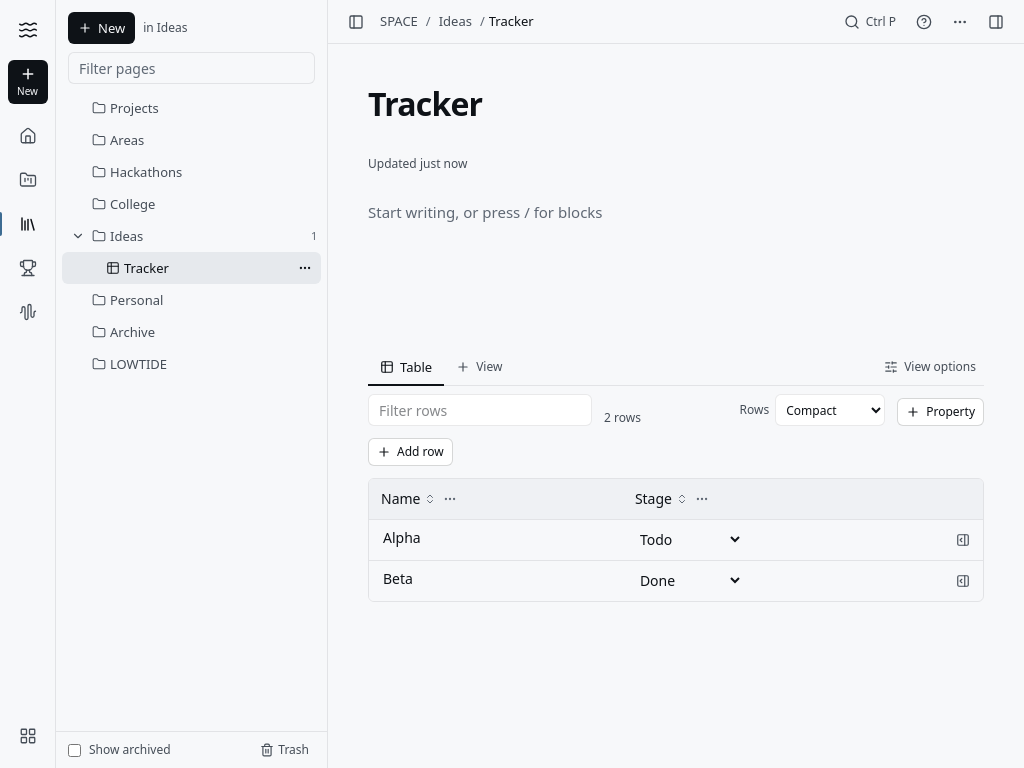
it: SPACE databases (v2.1) › saves filters and sorts in a view, without copying rows
This screenshot has width=1024, height=768.
Expected: the element named "Views" is shown, [368,350,444,385]
Click the button "View options".
click(930, 367)  # box [876,353,984,381]
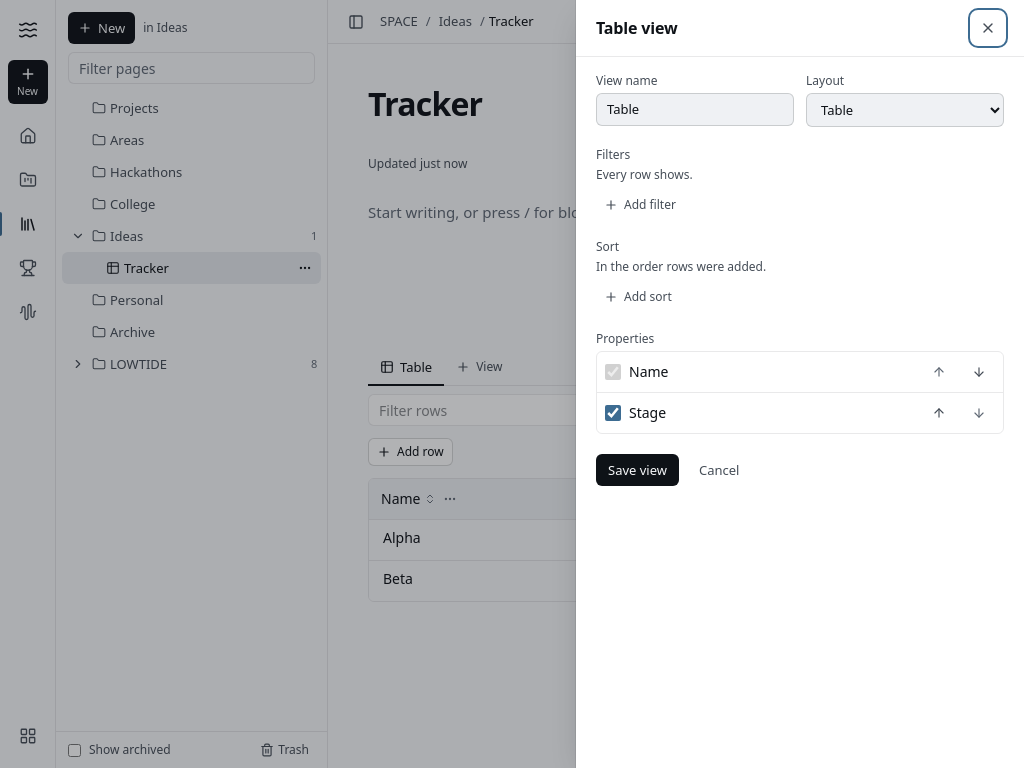
Click the button "Add filter".
click(640, 205)  # box [596,191,684,219]
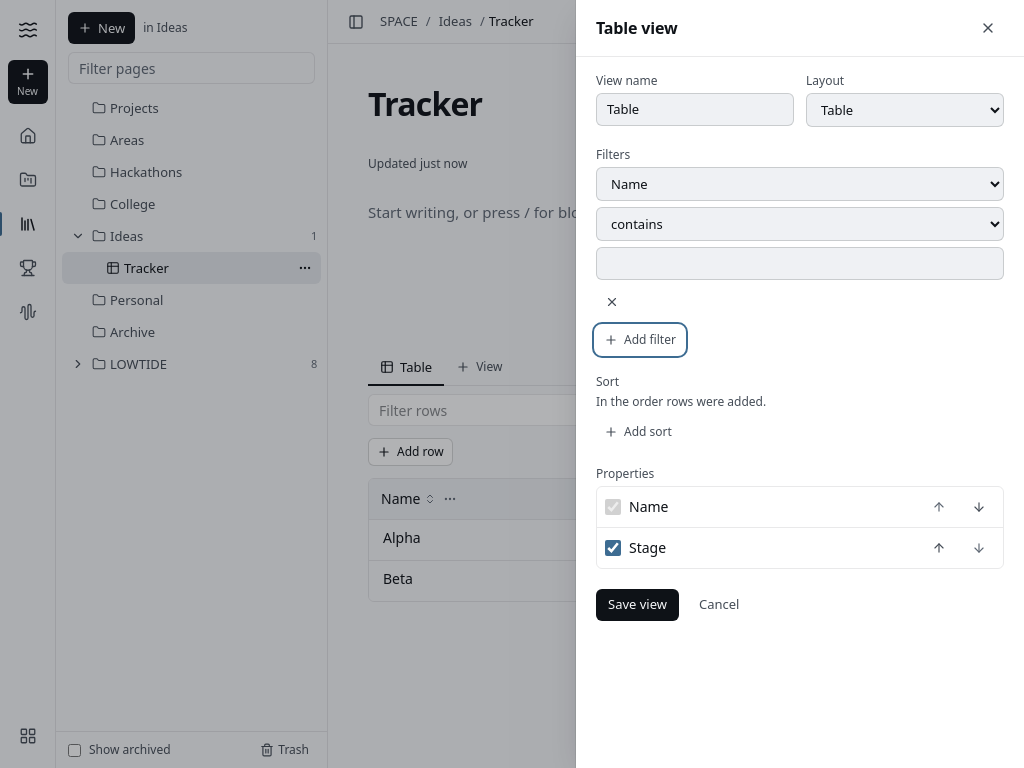
Select "Stage" in the dropdown named "Filter 1 property" at (800, 184), box [596,167,1004,201]
Select "is" in the dropdown named "Filter 1 condition" at (800, 224), box [596,207,1004,241]
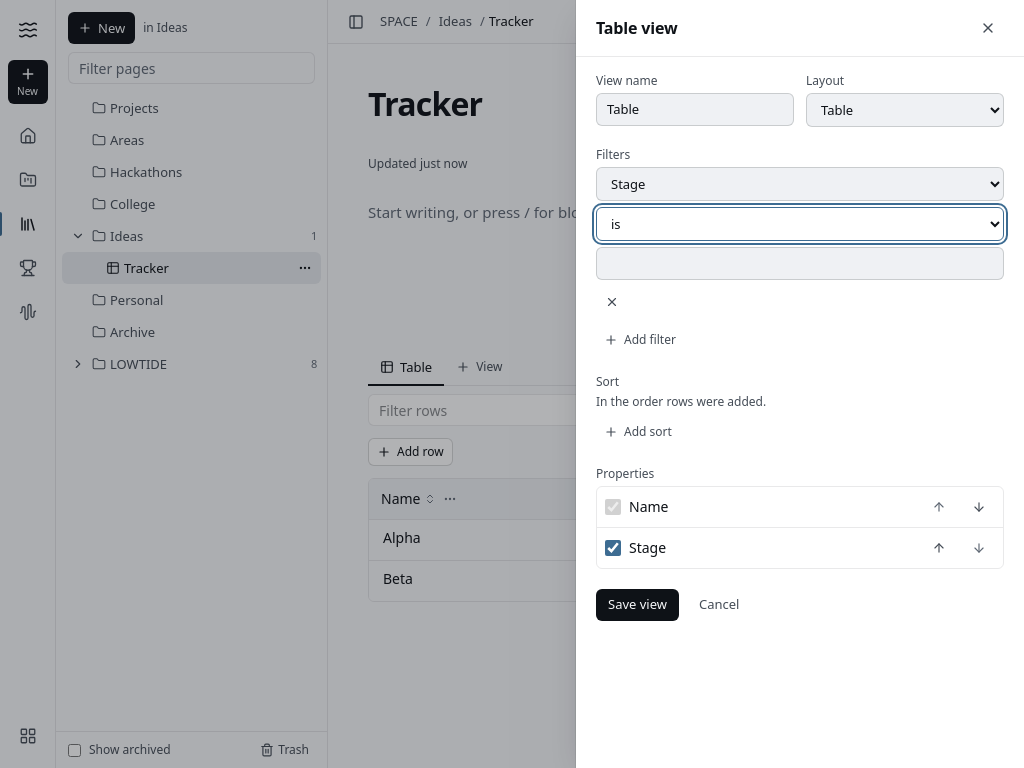
Type "Done" into the field named "Filter 1 value".
click(800, 263); type("Done")  # box [596,247,1004,280]
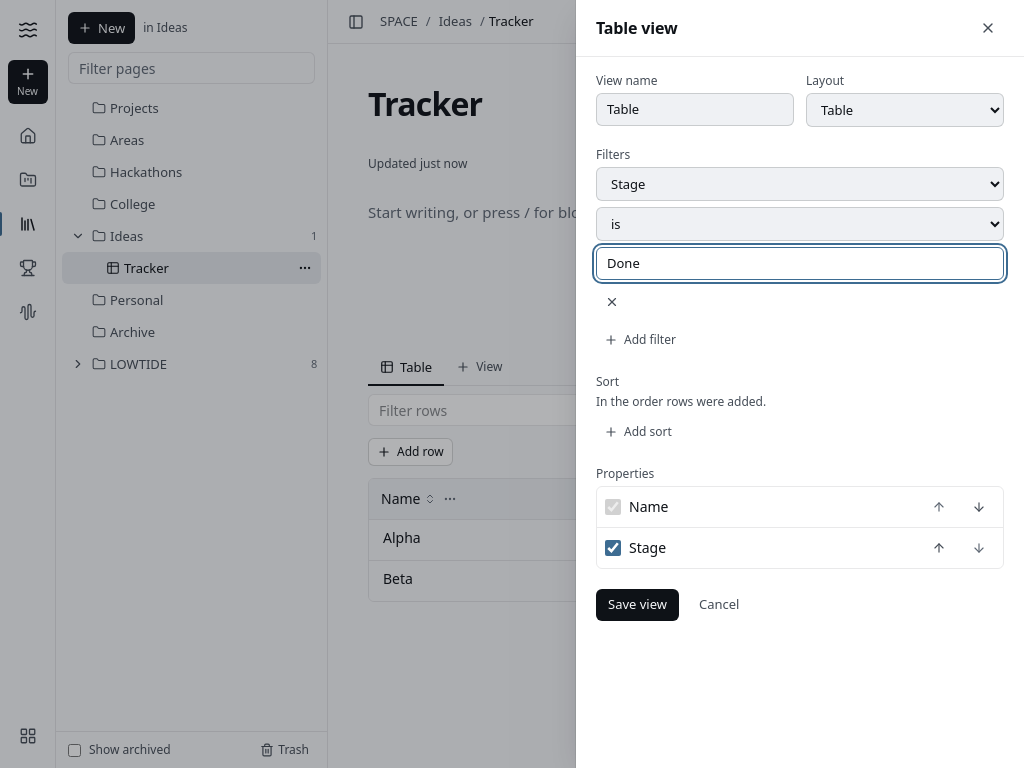
Click the button "Add sort".
click(638, 432)  # box [596,418,680,446]
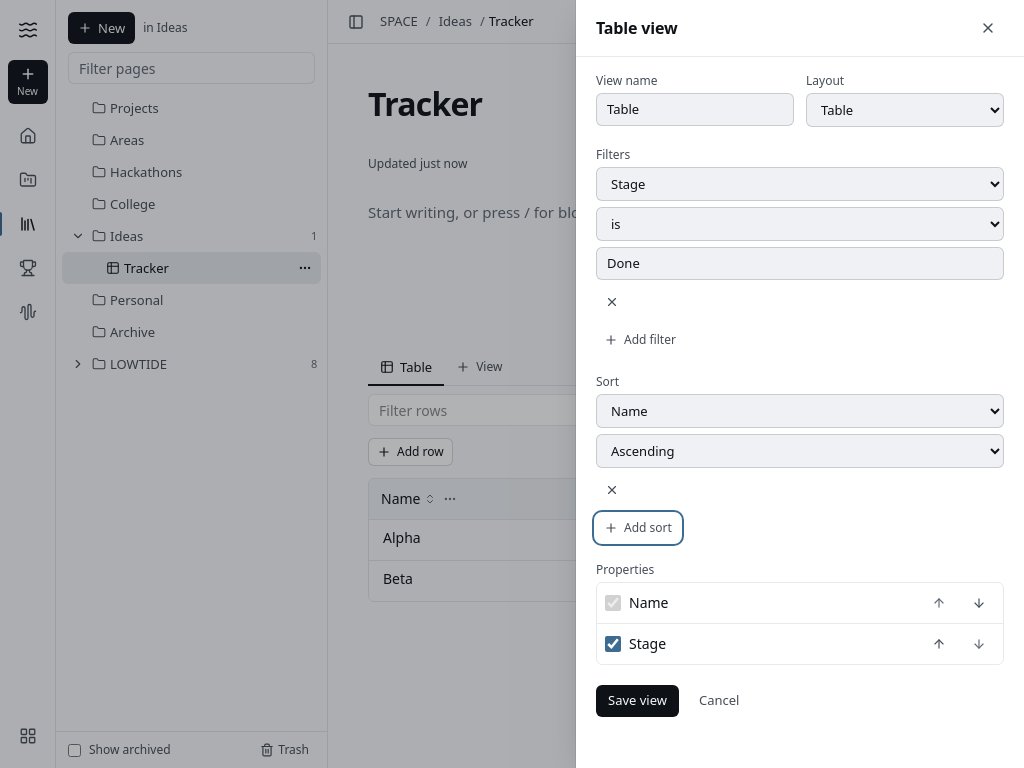
Select "Descending" in the dropdown named "Sort 1 direction" at (800, 451), box [596,434,1004,468]
Click the button "Save view".
click(638, 701)  # box [596,685,679,717]
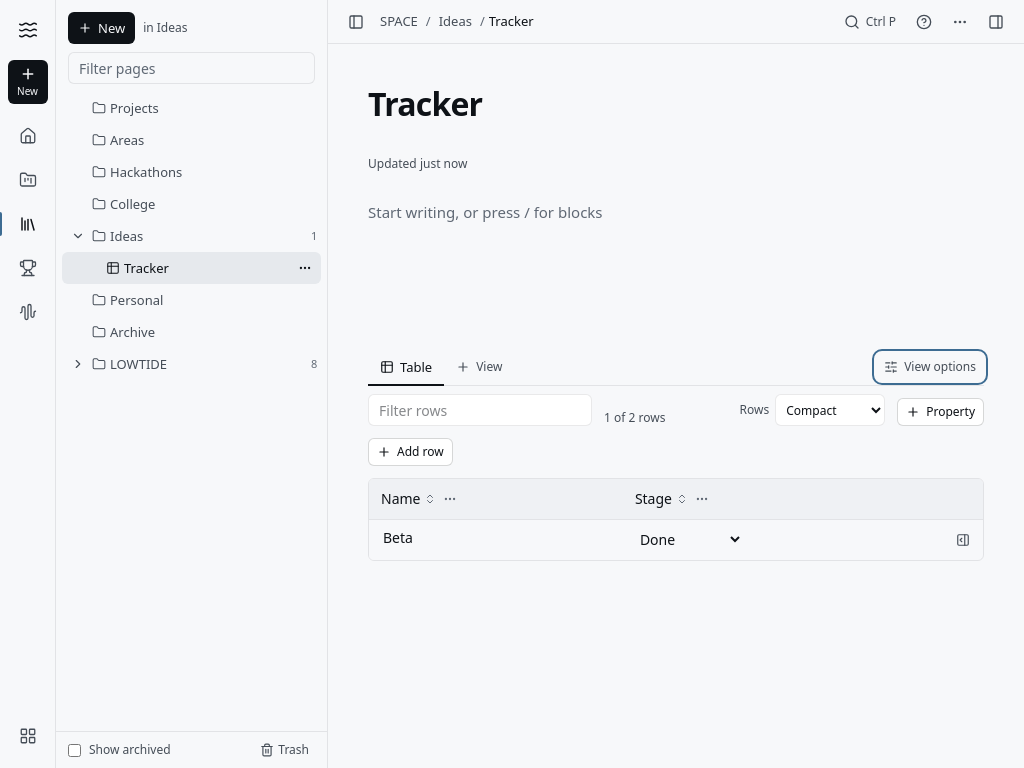
Now the text "1 of 2 rows" is shown, box [604,410,665,426]
Now the button "Alpha" is gone
